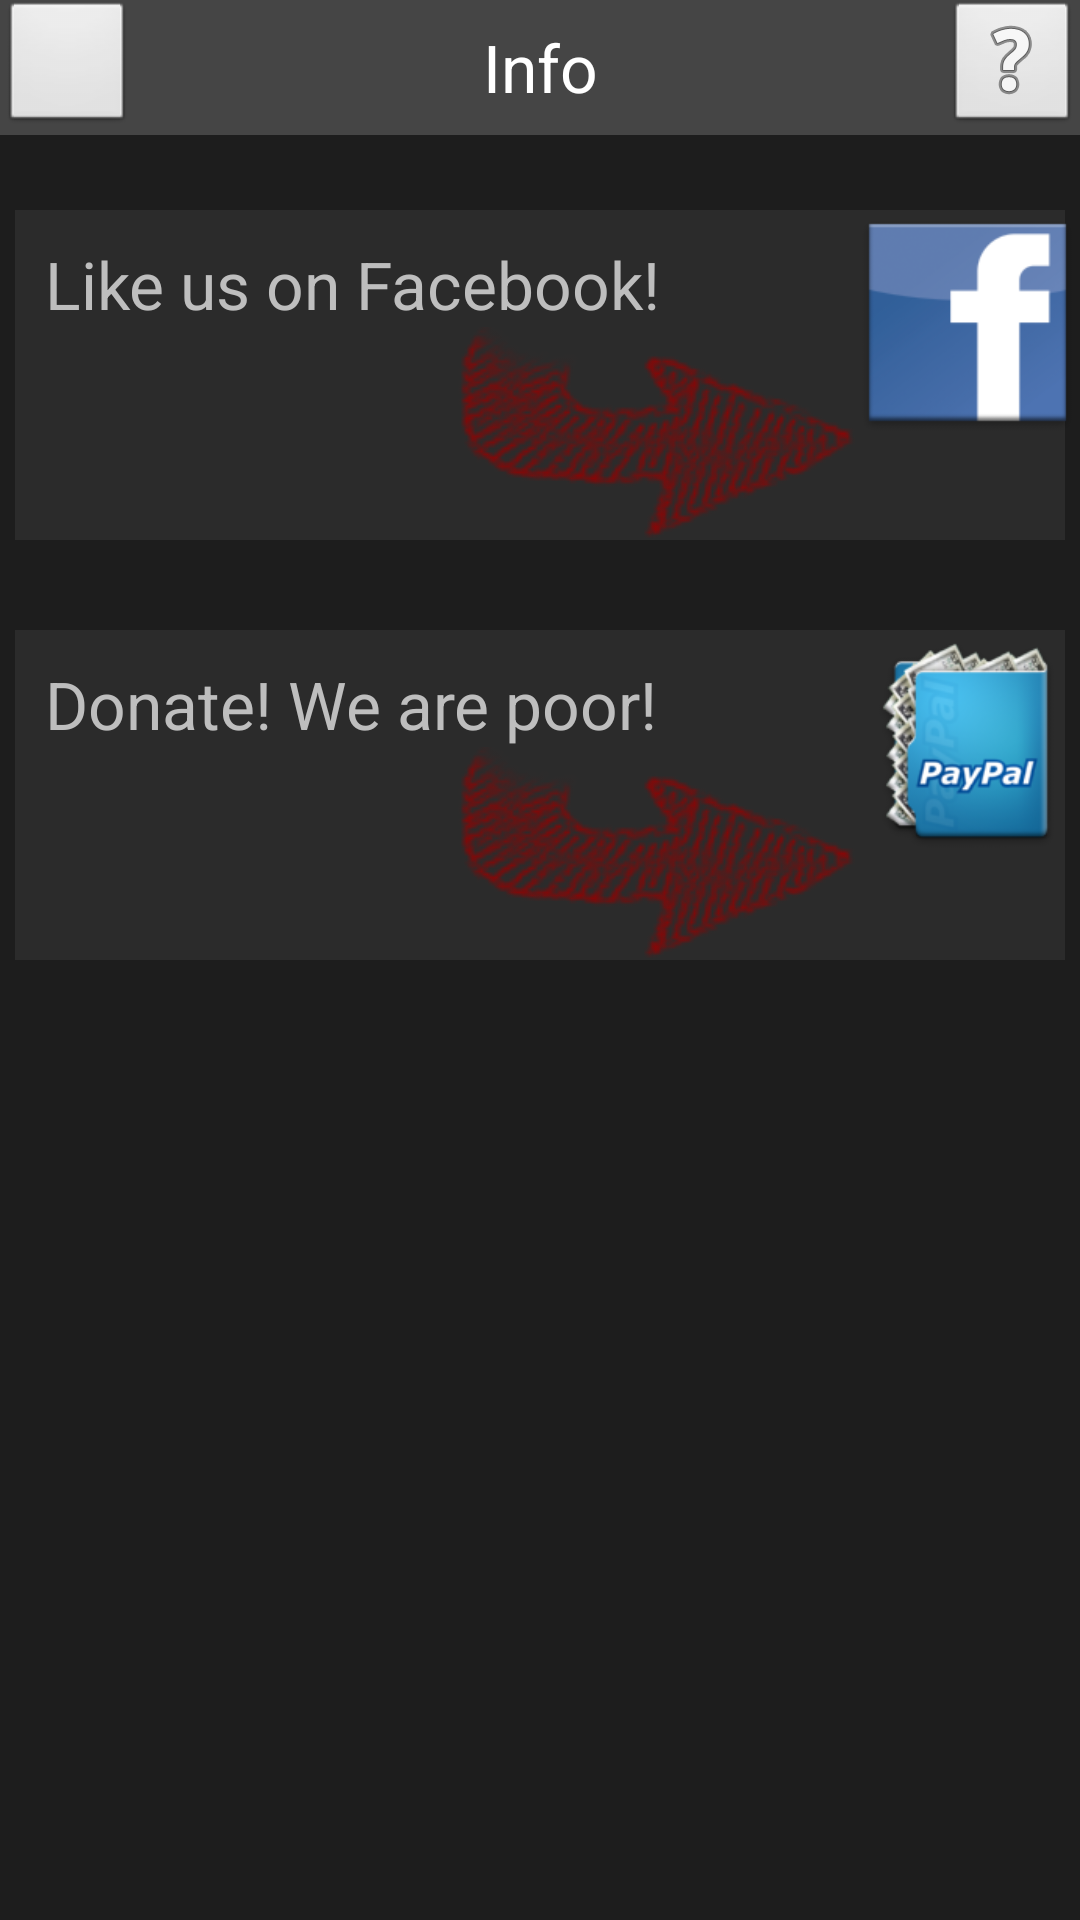

Icon bounding boxes for this 1080x1920 phone screenshot, format bbox=[x1, y1, x2, y2]:
help: bbox=[955, 3, 1068, 118]
